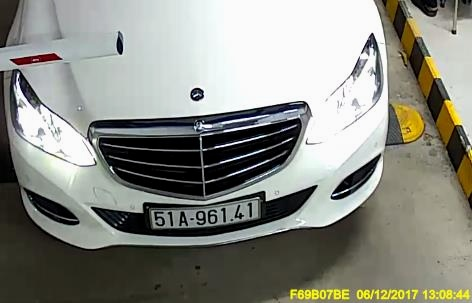plate: (145, 201, 267, 233)
